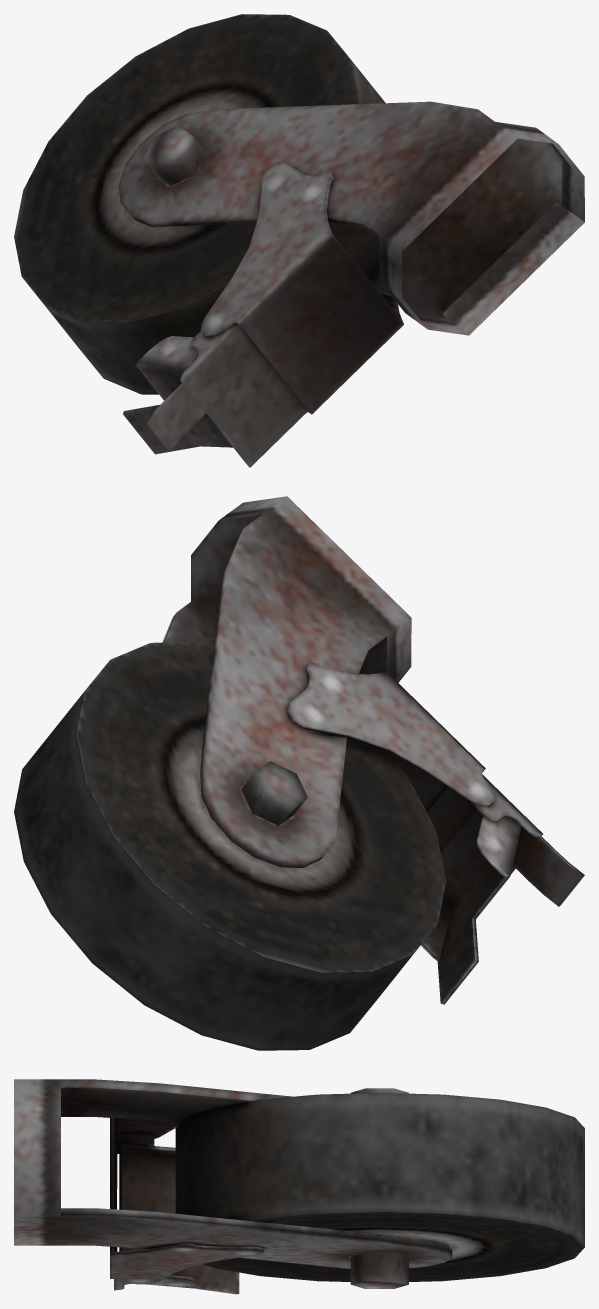
Rendered from Tool_Cabinet_Wheel_Front_Lock_low.obj.
The picture shows the model from 3 angles, top to bottom: view 1: azimuth 30°, elevation 25°; view 2: azimuth 150°, elevation 25°; view 3: azimuth 270°, elevation 25°; orthographic projection. The views are drawn at different scales.
Bounding box in the file's own units: 0.1155 × 0.094 × 0.1418.
1 material, 1 textured.
